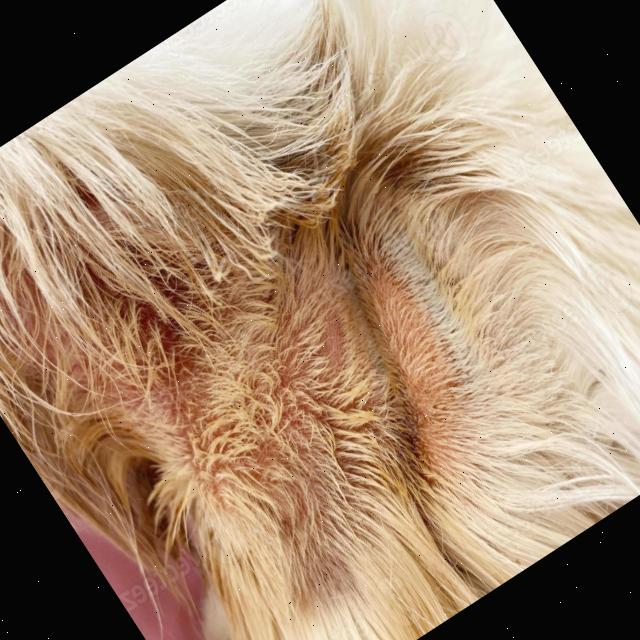cat-hairloss: (193, 164, 572, 582)
